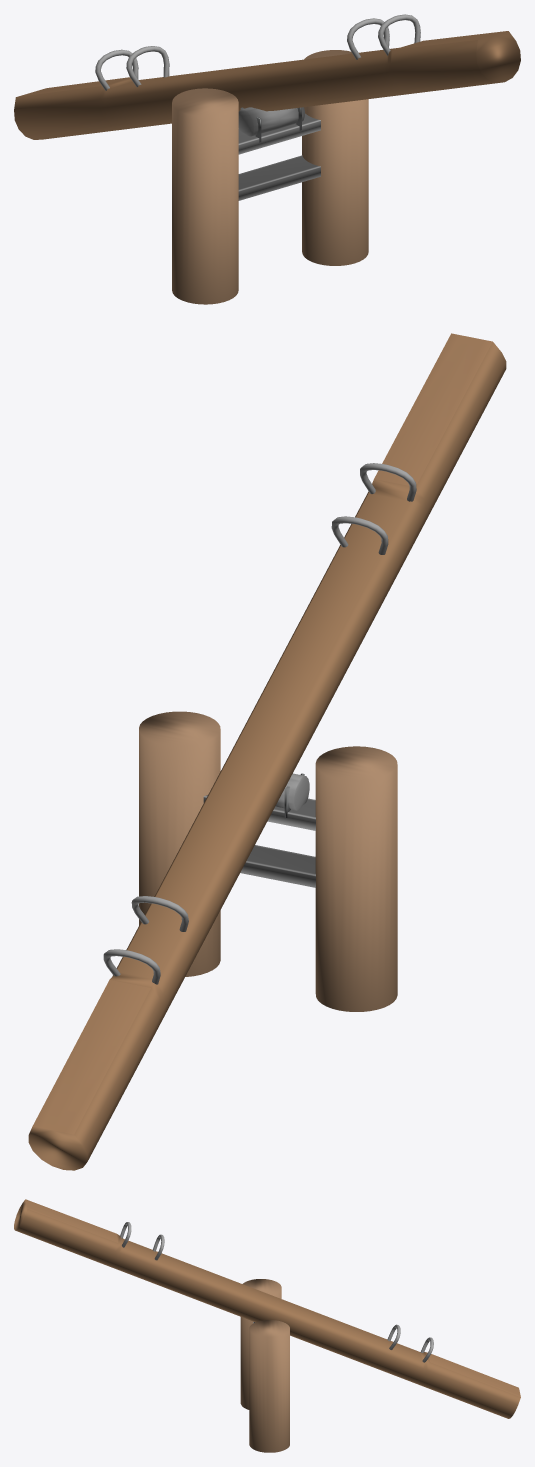
The model's file is swing 2.fbx.
The picture shows the model from 3 angles, top to bottom: view 1: azimuth 30°, elevation 25°; view 2: azimuth 150°, elevation 25°; view 3: azimuth 270°, elevation 25°; orthographic projection. The views are drawn at different scales.
Visible parts, largest first — view 1: Cube.430; view 2: Cube.430; view 3: Cube.430.
Boxes of the visible parts, box(x1,y1,x2,y2) form: Cube.430: box(14, 14, 520, 304); Cube.430: box(28, 333, 506, 1170); Cube.430: box(14, 1199, 520, 1452).
Bounding box in the file's own units: 175 × 324 × 644.
